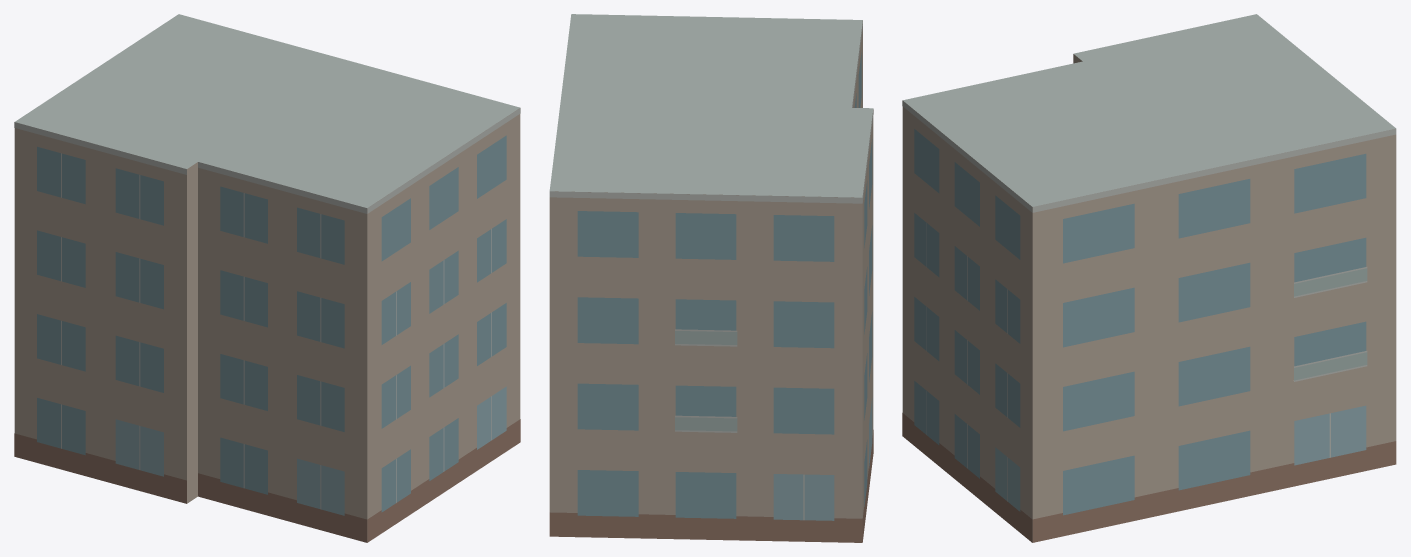
The model's file is survey-upis-32891443.glb.
3 views of the same model, side by side, from view 1: azimuth 30°, elevation 25°; view 2: azimuth 150°, elevation 25°; view 3: azimuth 270°, elevation 25° (orthographic). The views are drawn at different scales.
Visible parts, largest first — view 1: survey-upis-32891443.tmp; view 2: survey-upis-32891443.tmp; view 3: survey-upis-32891443.tmp.
Boxes of the visible parts, x1,y1,x2,y2 form: survey-upis-32891443.tmp: (14,14,520,542); survey-upis-32891443.tmp: (549,14,873,542); survey-upis-32891443.tmp: (902,14,1396,542).
Size of the model in its own units: 17.14 by 13.9 by 18.53.
